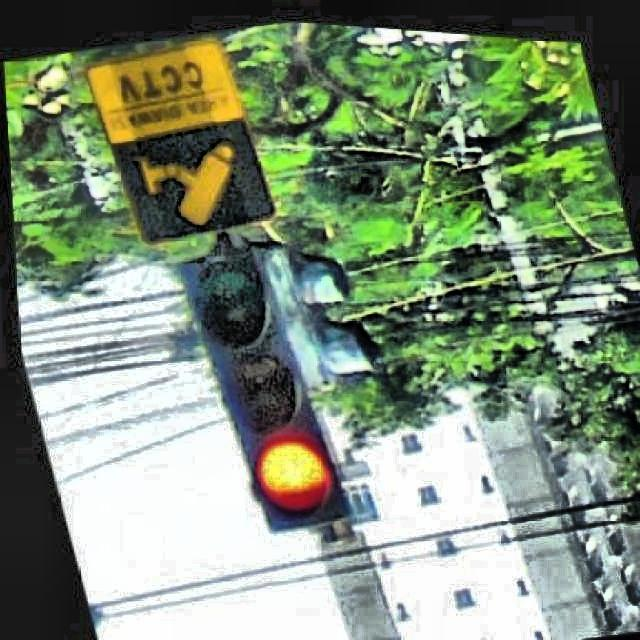red: (185, 250, 350, 527)
